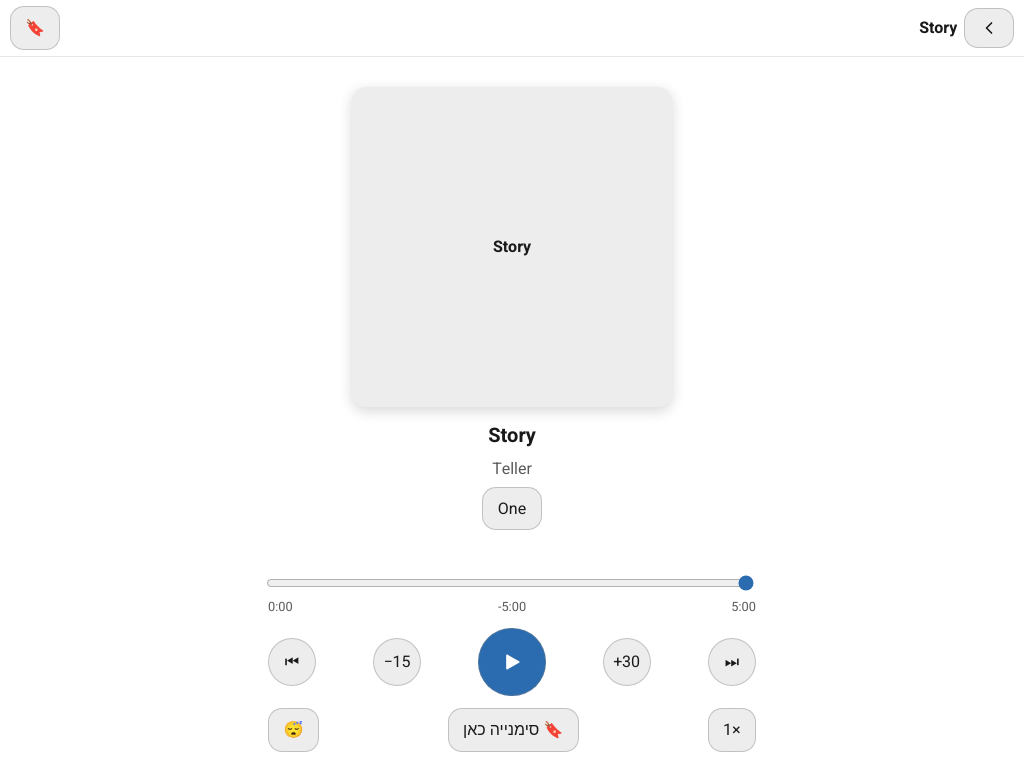
Test case: AudioPlayer › lists the chapters and jumps to the chosen one
Expected: the button named "נגן" is shown, [478,628,546,696]
What coordinates should you click on to do the following:
click the button with aria-label "פרקים"
I would click on:
 (512, 509)
Its box is [482,487,542,530].
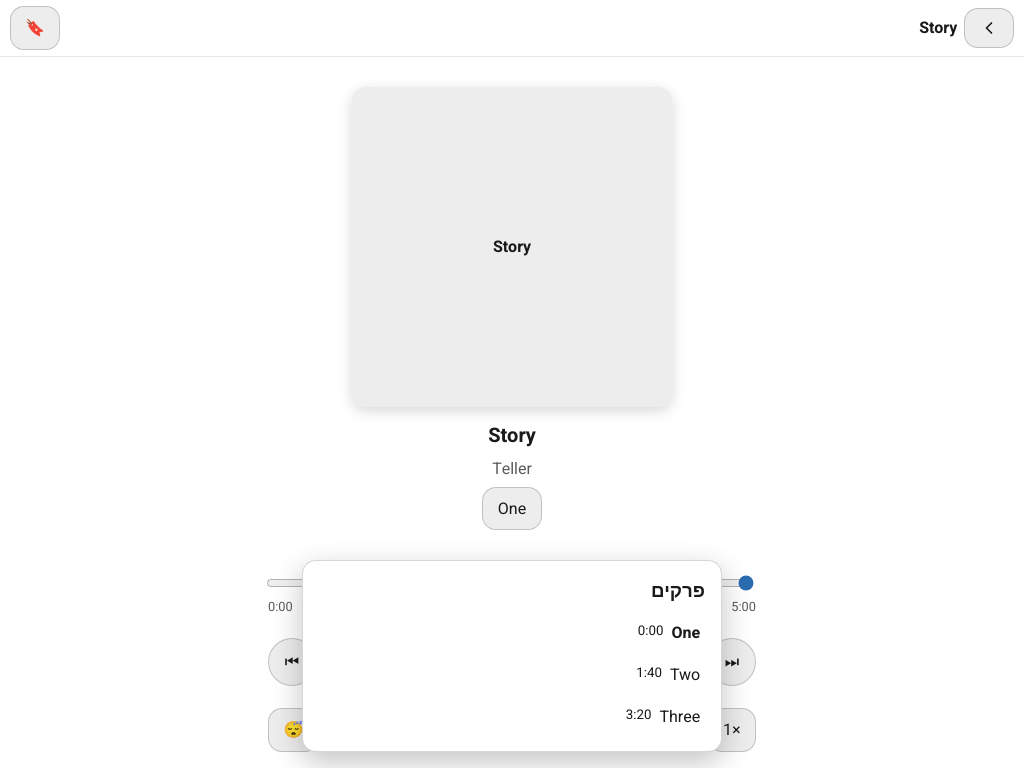
What coordinates should you click on to do the following:
click the text "Three"
I would click on:
 (680, 717)
Its box is [659,705,700,729].
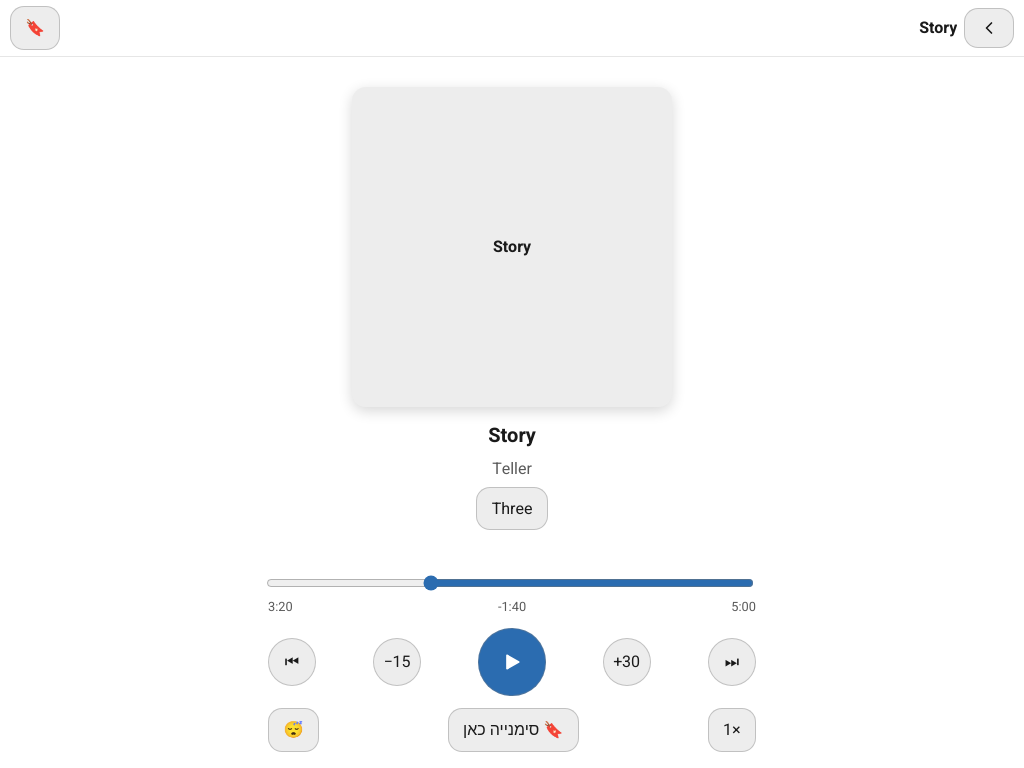
Now the heading "פרקים" is gone
